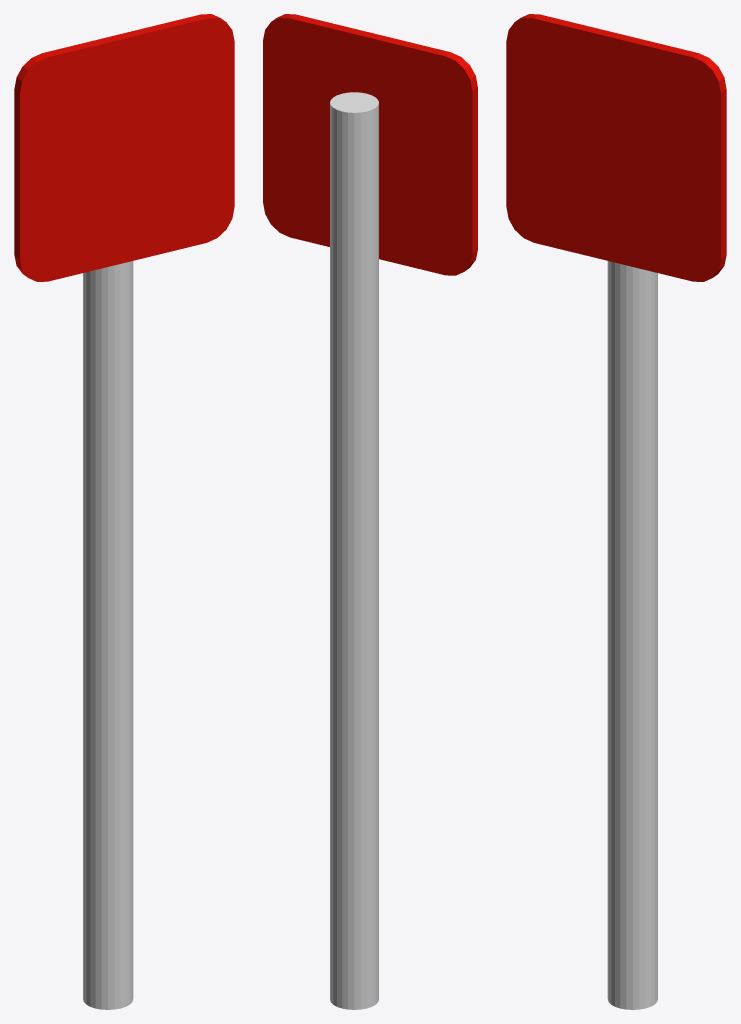
The model's file is sign.fbx.
3 views of the same model, side by side, from view 1: azimuth 30°, elevation 25°; view 2: azimuth 150°, elevation 25°; view 3: azimuth 330°, elevation 25° (orthographic). The views are drawn at different scales.
Visible parts, largest first — view 1: Cylinder; view 2: Cylinder; view 3: Cylinder.
Part boxes in pixels (box(x1,y1,x2,y2)): Cylinder: box(14, 14, 234, 1009); Cylinder: box(263, 14, 477, 1009); Cylinder: box(506, 14, 726, 1009).
Bounding box in the file's own units: 986 × 4289 × 253.
